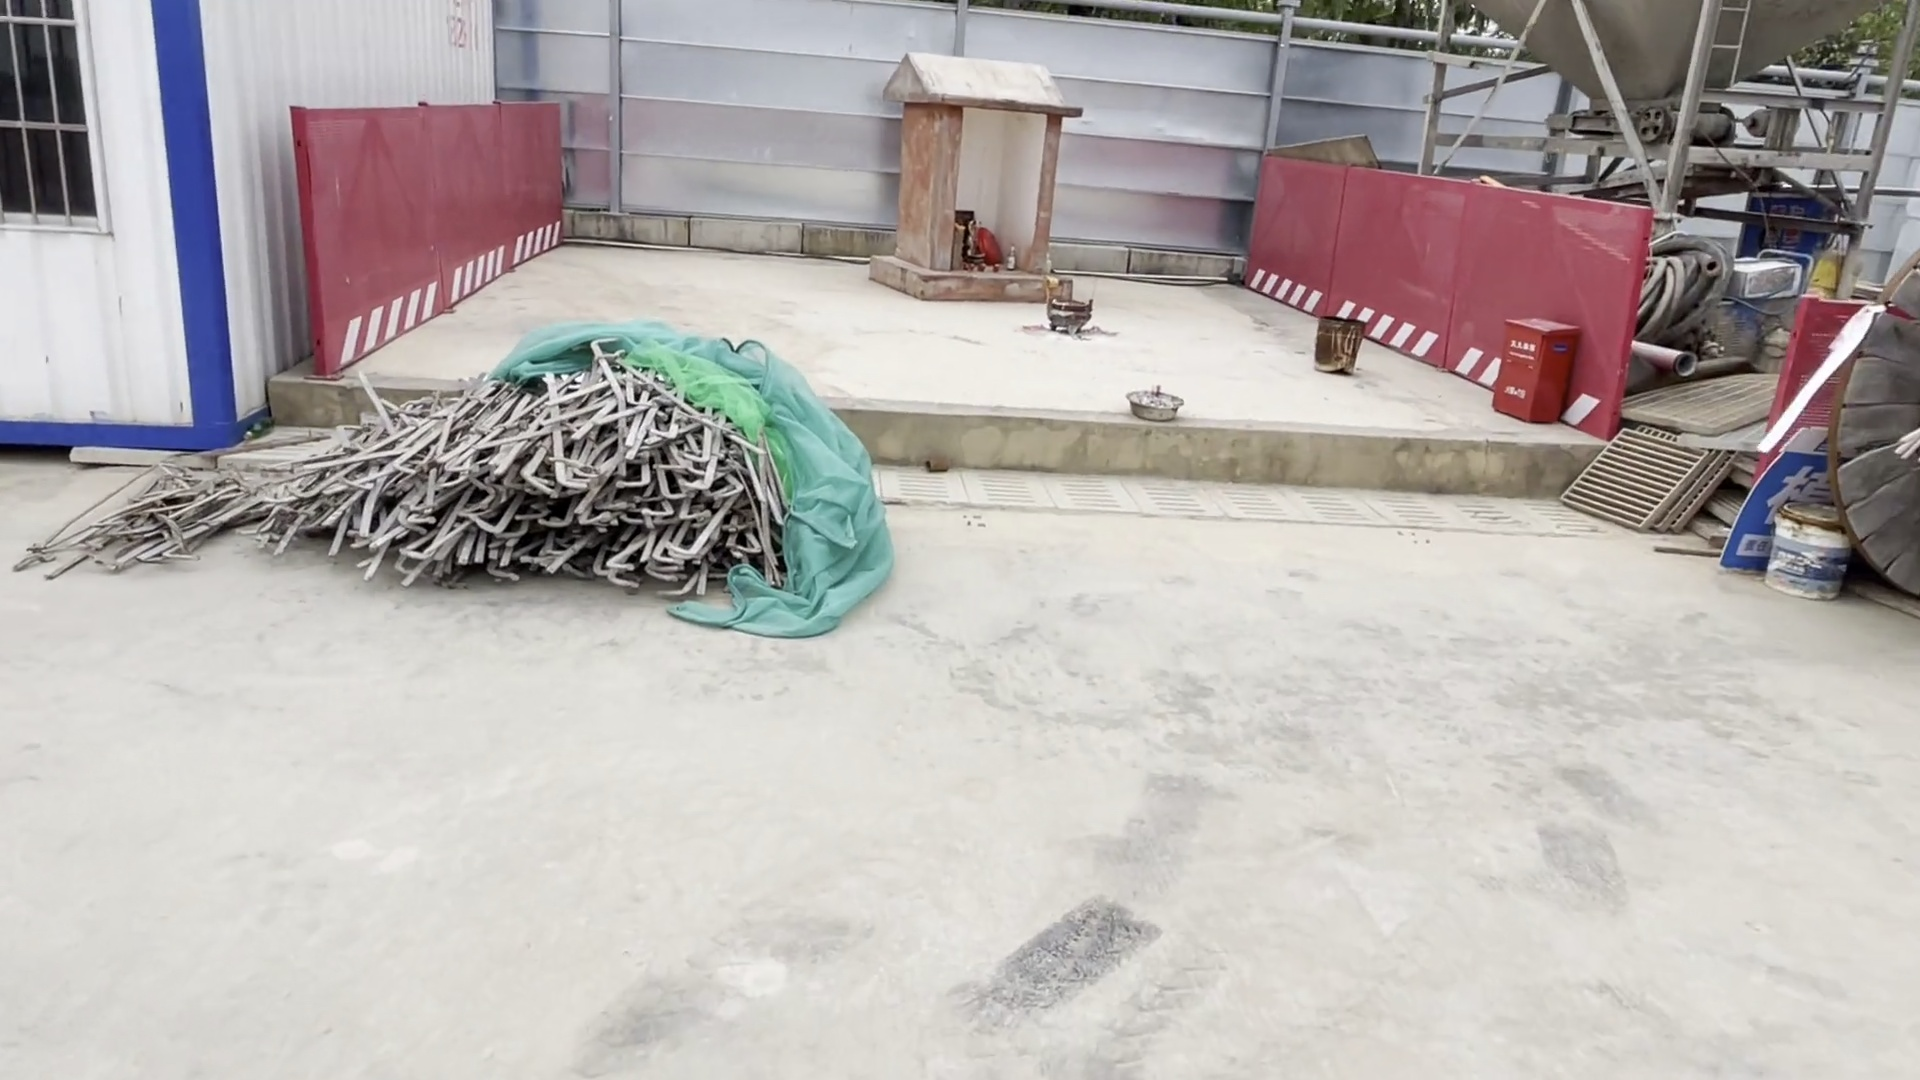fence: (1232, 152, 1654, 455), (280, 84, 580, 381)
